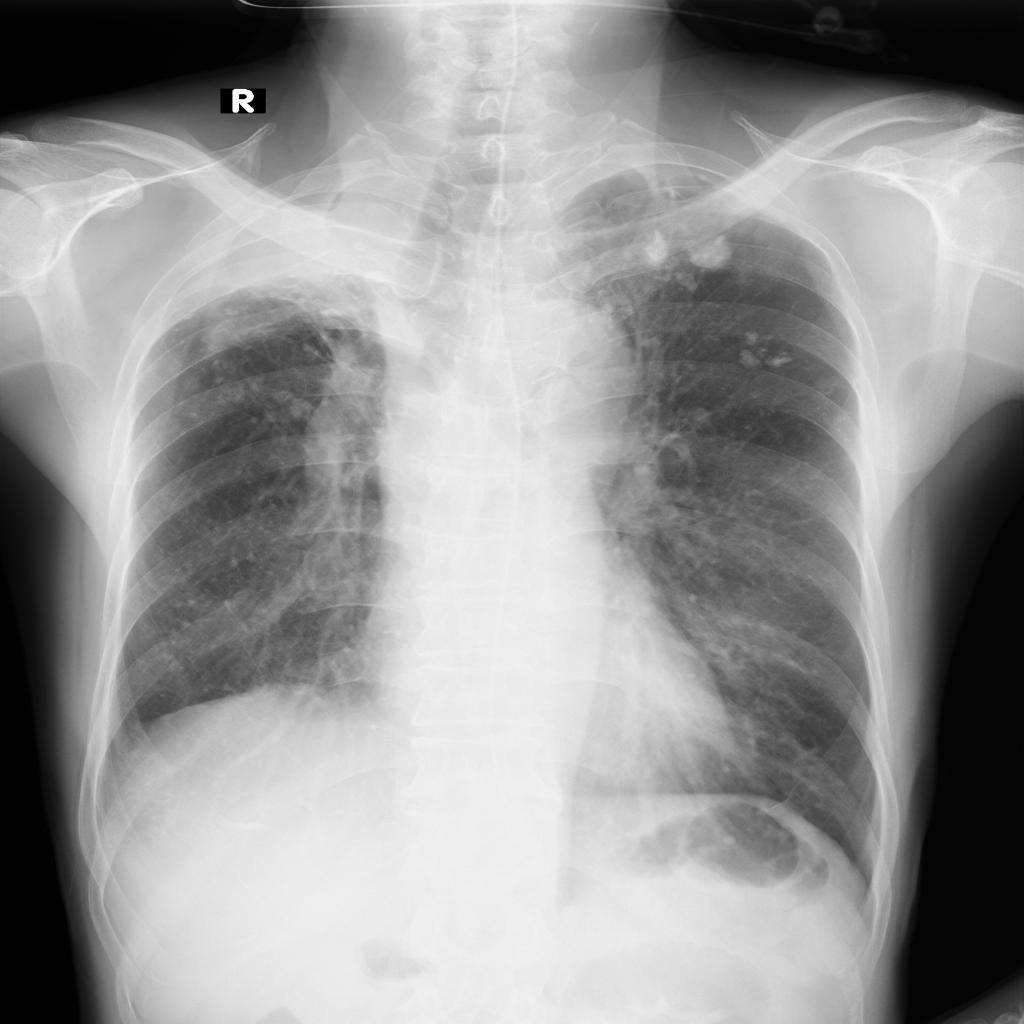Nodule: (734, 329, 799, 372), (682, 237, 739, 267), (648, 231, 671, 265)
